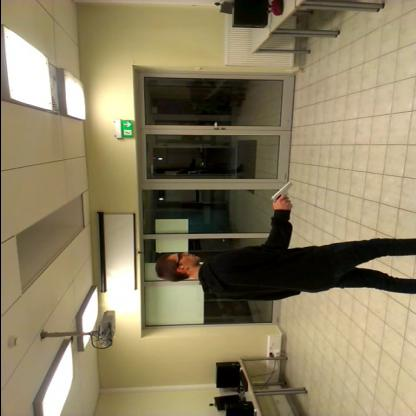Pistol: (256, 176, 296, 206)
